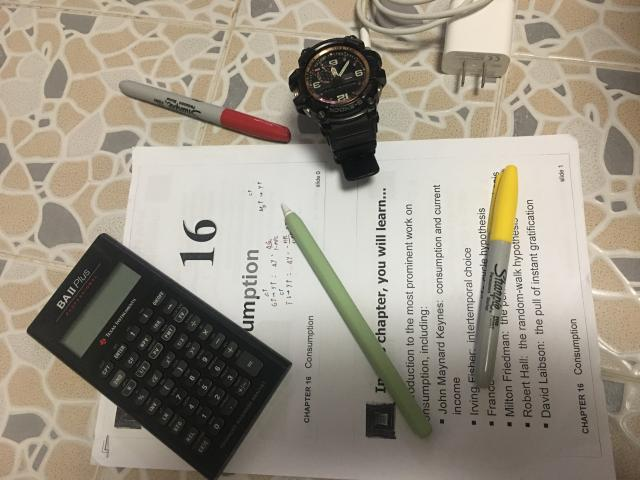Pen: (119, 80, 290, 142), (474, 165, 518, 388)
Watch: (289, 35, 386, 180)
paper: (89, 135, 615, 479)
wire: (356, 0, 515, 88)
